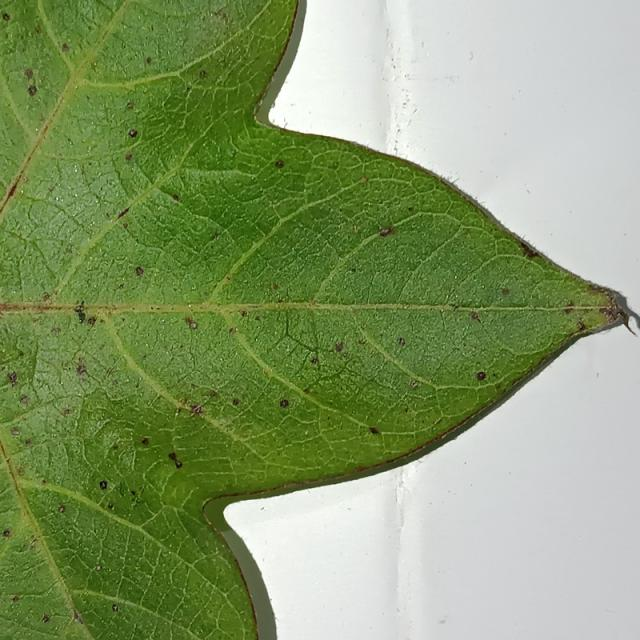Bacterial_Blight: (269, 390, 297, 412), (616, 308, 632, 330), (599, 304, 617, 322), (519, 240, 537, 256), (396, 332, 410, 350), (169, 453, 183, 469), (588, 282, 606, 293), (379, 225, 395, 237), (470, 312, 483, 325), (75, 308, 86, 323), (76, 363, 87, 375), (29, 536, 39, 549), (118, 208, 129, 219), (8, 371, 18, 383), (190, 405, 202, 415), (576, 319, 586, 331), (75, 612, 84, 625), (24, 68, 34, 79), (476, 371, 486, 381), (128, 128, 138, 138), (28, 85, 37, 96), (335, 342, 344, 352), (135, 266, 144, 276), (106, 366, 115, 376), (369, 427, 380, 435), (20, 396, 29, 405), (11, 427, 20, 436), (88, 316, 96, 326), (51, 327, 61, 335), (564, 306, 574, 314), (74, 305, 84, 313), (566, 300, 575, 308), (125, 153, 133, 162), (220, 12, 228, 21), (99, 481, 107, 490), (410, 380, 419, 388), (62, 43, 70, 52), (501, 288, 510, 296), (199, 70, 208, 78), (2, 529, 11, 537), (11, 595, 20, 603), (275, 160, 284, 168), (359, 176, 368, 184), (17, 466, 25, 475), (202, 503, 209, 513), (212, 231, 220, 239), (172, 194, 180, 202), (58, 505, 66, 513), (141, 437, 149, 445), (232, 398, 240, 406), (25, 438, 33, 446), (65, 246, 73, 254), (42, 615, 50, 623), (2, 13, 10, 21), (43, 293, 51, 301), (47, 185, 55, 193), (112, 604, 119, 613), (35, 26, 42, 35), (126, 102, 134, 109), (272, 282, 279, 290), (310, 357, 318, 364), (63, 408, 71, 415), (209, 390, 217, 397), (358, 338, 366, 345), (240, 310, 248, 317), (229, 327, 236, 334), (191, 322, 198, 329), (113, 379, 120, 386), (107, 502, 114, 509), (112, 444, 120, 450), (302, 388, 310, 394), (146, 56, 152, 64), (123, 222, 129, 229), (277, 297, 284, 303), (95, 565, 102, 571), (41, 478, 47, 485), (186, 85, 191, 93), (130, 490, 136, 496), (255, 315, 261, 321), (226, 274, 232, 280), (407, 206, 413, 212), (350, 268, 356, 273), (119, 284, 124, 290), (93, 61, 97, 67), (397, 128, 401, 133)
Cotton: (0, 0, 620, 639)
